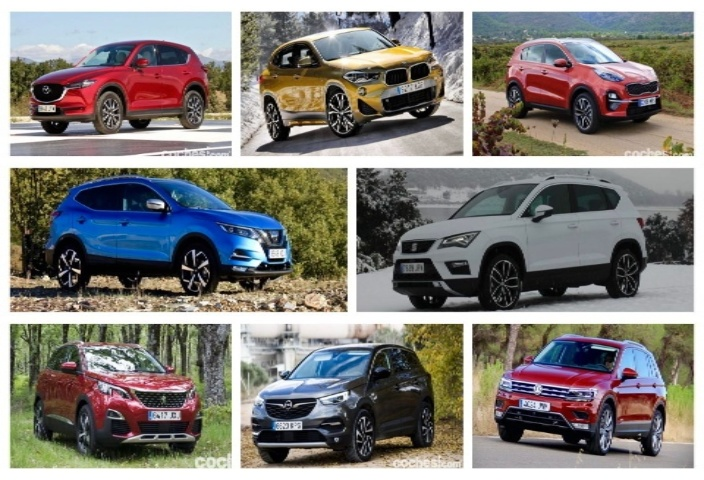camper: (384, 175, 654, 307), (21, 165, 287, 283), (477, 325, 677, 465), (240, 332, 448, 459), (259, 21, 455, 143), (25, 340, 207, 455), (31, 26, 214, 139), (503, 33, 661, 135)
